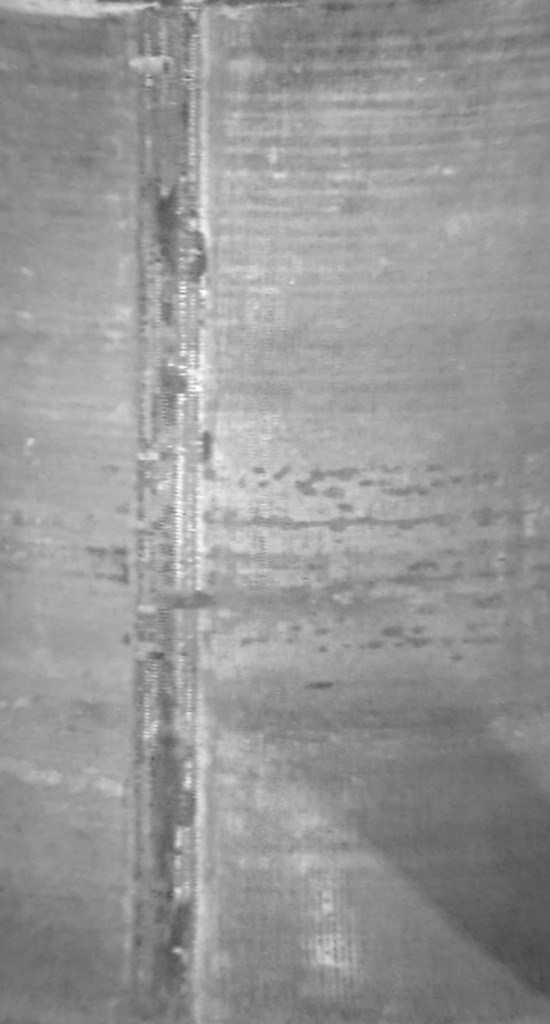splice: (122, 1, 219, 1020)
